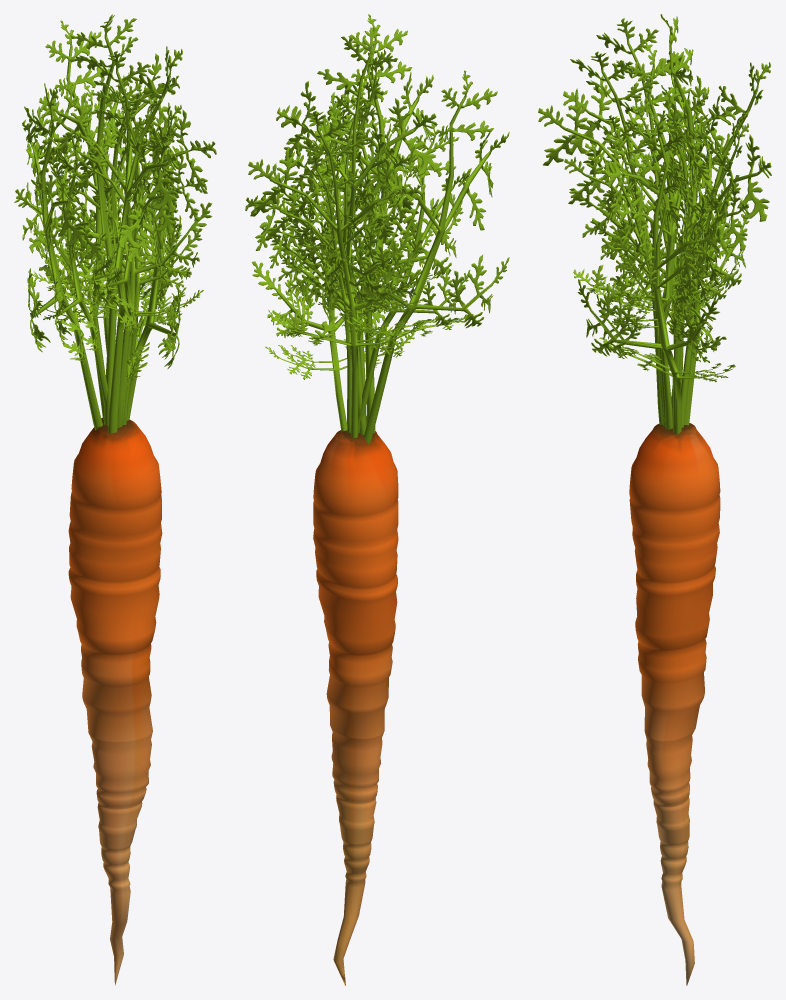
The model's file is zanaa¿horia.glb.
3 views of the same model, side by side, from view 1: azimuth 30°, elevation 25°; view 2: azimuth 150°, elevation 25°; view 3: azimuth 270°, elevation 25° (orthographic). The views are drawn at different scales.
Parts seen in each view (by area): view 1: Cube.007, Cube.002, Cube.009; view 2: Cube.002, Cube.007, Cube.009; view 3: Cube.002, Cube.007, Cube.009.
Part boxes in pixels (x1=…): Cube.007: x1=68, y1=418, x2=162, y2=985; Cube.002: x1=14, y1=14, x2=216, y2=433; Cube.009: x1=52, y1=76, x2=206, y2=427; Cube.002: x1=245, y1=14, x2=509, y2=443; Cube.007: x1=313, y1=430, x2=398, y2=985; Cube.009: x1=261, y1=80, x2=470, y2=433; Cube.002: x1=538, y1=14, x2=771, y2=434; Cube.007: x1=629, y1=423, x2=720, y2=985; Cube.009: x1=564, y1=85, x2=749, y2=433.
Bounding box in the file's own units: 5.14 × 23.27 × 5.11.
3 materials, 3 textured.
